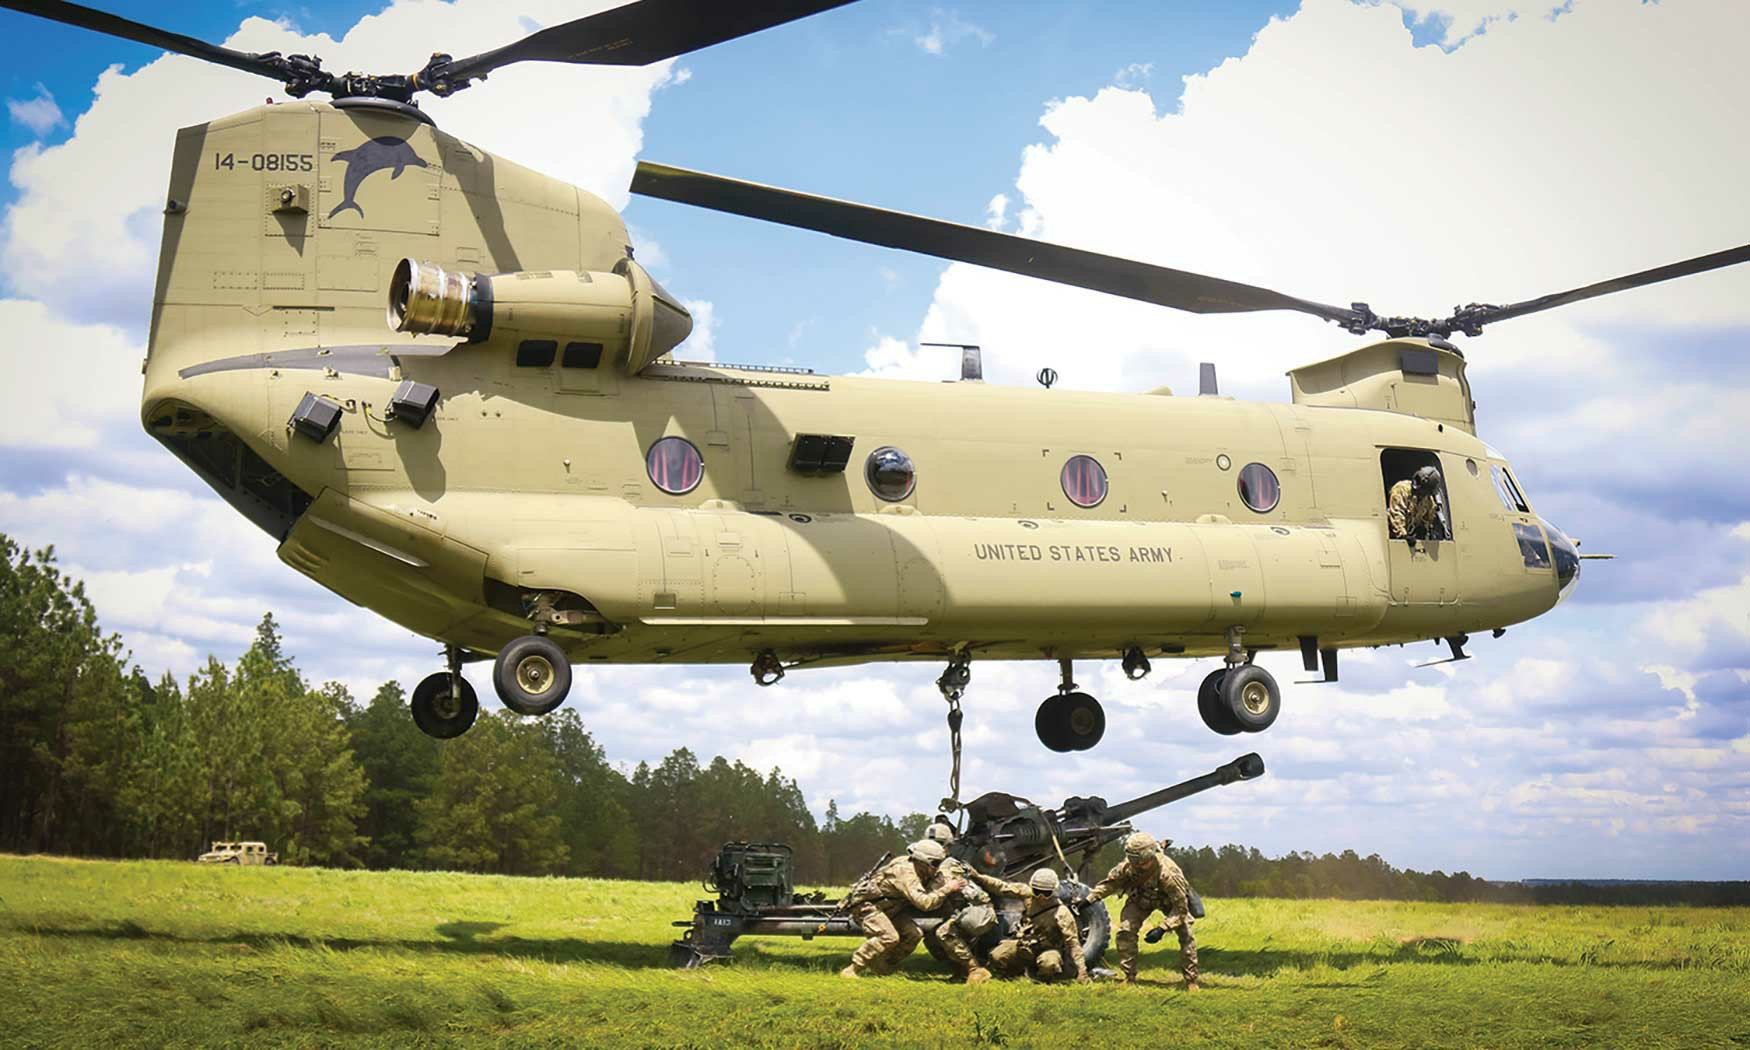chinook: (110, 41, 1610, 712)
